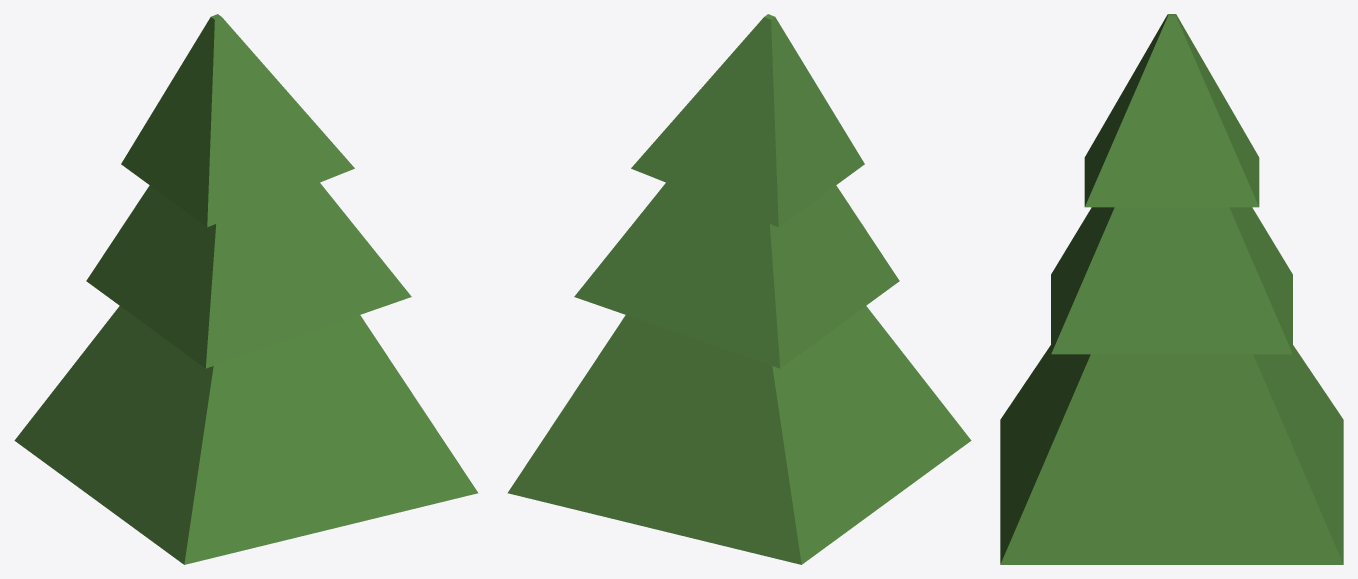
The model's file is Wood1 1.fbx.
3 views of the same model, side by side, from view 1: azimuth 30°, elevation 25°; view 2: azimuth 150°, elevation 25°; view 3: azimuth 270°, elevation 25° (orthographic).
Visible parts, largest first — view 1: Wood1; view 2: Wood1; view 3: Wood1.
Boxes of the visible parts, box(x1,y1,x2,y2) form: Wood1: box(14, 14, 478, 564); Wood1: box(507, 14, 971, 564); Wood1: box(1000, 14, 1343, 564).
Bounding box in the file's own units: 142 × 240 × 142.
